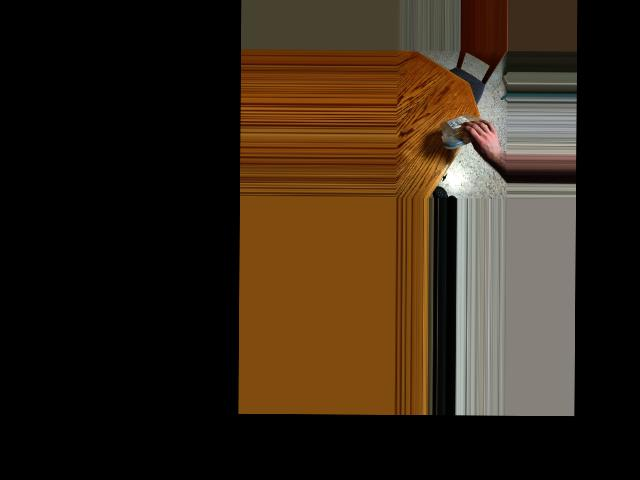cheese: (443, 113, 482, 147)
